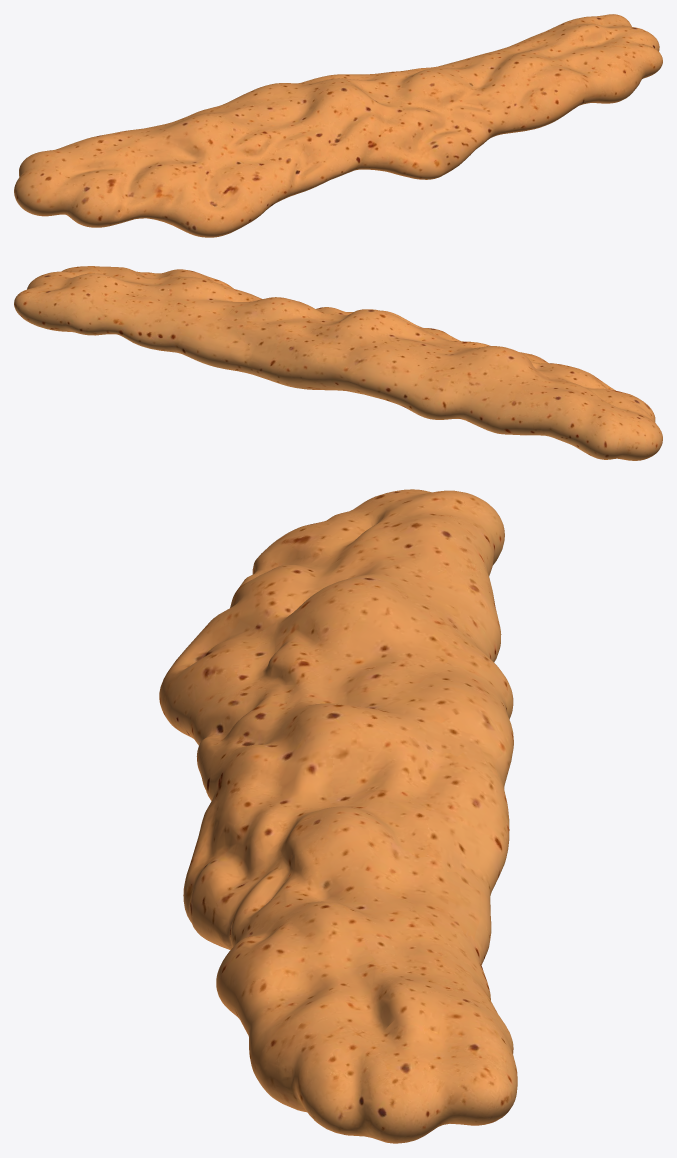
The model's file is sauce.glb.
The picture shows the model from 3 angles, top to bottom: view 1: azimuth 30°, elevation 25°; view 2: azimuth 150°, elevation 25°; view 3: azimuth 270°, elevation 25°; orthographic projection. The views are drawn at different scales.
Size of the model in its own units: 1.9 by 0.2423 by 0.4686.
1 material, 1 textured.
